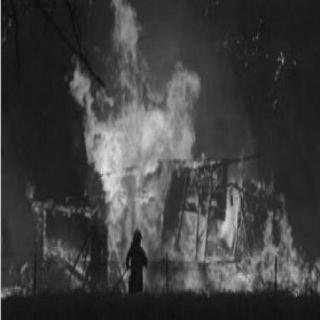Fire: (28, 4, 316, 304)
